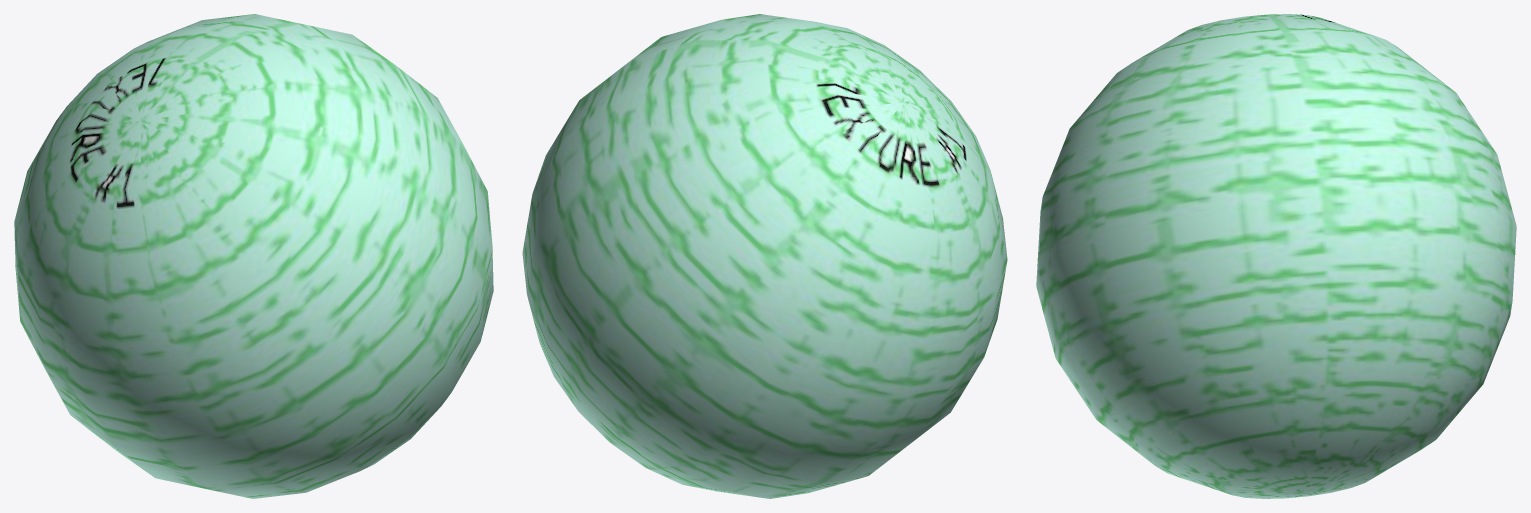
Rendered from simple_000_N_RGB_Texture_04.dae.
The picture shows the model from 3 angles, left to right: view 1: azimuth 30°, elevation 25°; view 2: azimuth 150°, elevation 25°; view 3: azimuth 270°, elevation 25°; orthographic projection.
Visible parts, largest first — view 1: pSphere1; view 2: pSphere1; view 3: pSphere1.
Boxes of the visible parts, x1,y1,x2,y2 form: pSphere1: [14, 14, 493, 498]; pSphere1: [522, 14, 1007, 498]; pSphere1: [1036, 14, 1516, 498].
Bounding box in the file's own units: 19.98 × 19.74 × 19.98.
